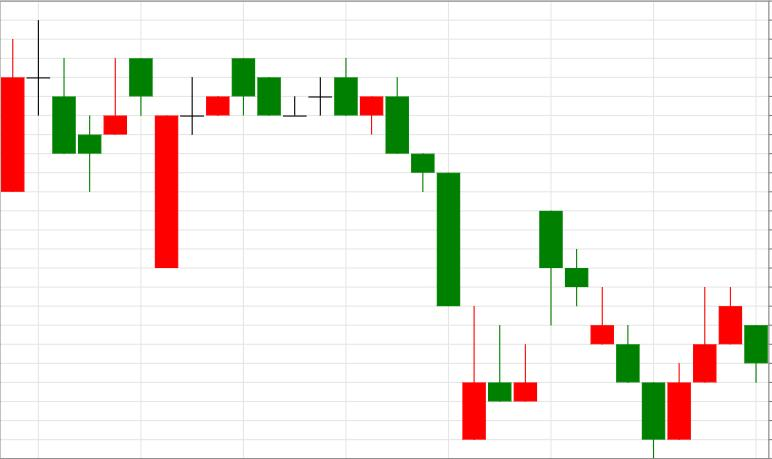three_white_soldiers_rise: (540, 211, 741, 458)
